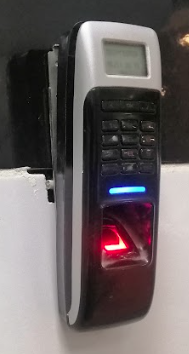Suprema: (38, 17, 170, 336)
